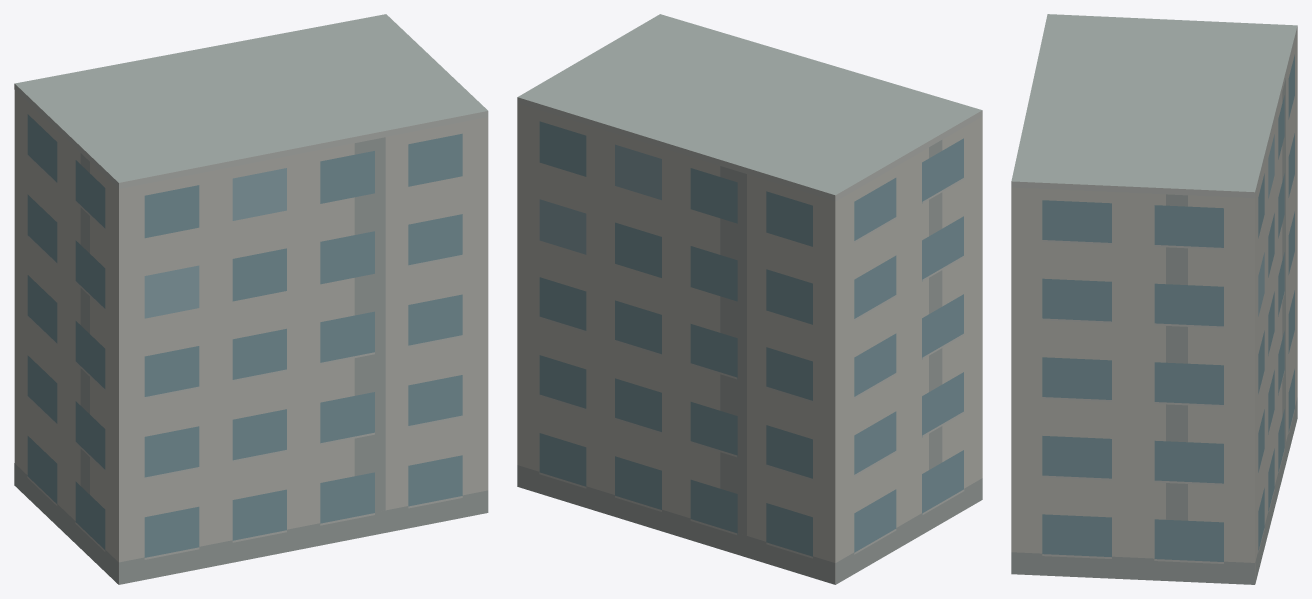
File: survey-upis-32560969.glb
The picture shows the model from 3 angles, left to right: view 1: azimuth 30°, elevation 25°; view 2: azimuth 150°, elevation 25°; view 3: azimuth 270°, elevation 25°; orthographic projection. The views are drawn at different scales.
Parts seen in each view (by area): view 1: survey-upis-32560969.tmp; view 2: survey-upis-32560969.tmp; view 3: survey-upis-32560969.tmp.
Boxes of the visible parts, left/top/right/bottom form: survey-upis-32560969.tmp: left=14, top=14, right=488, bottom=584; survey-upis-32560969.tmp: left=517, top=14, right=982, bottom=584; survey-upis-32560969.tmp: left=1011, top=14, right=1297, bottom=584.
Size of the model in its own units: 15.09 by 15.5 by 10.25.
